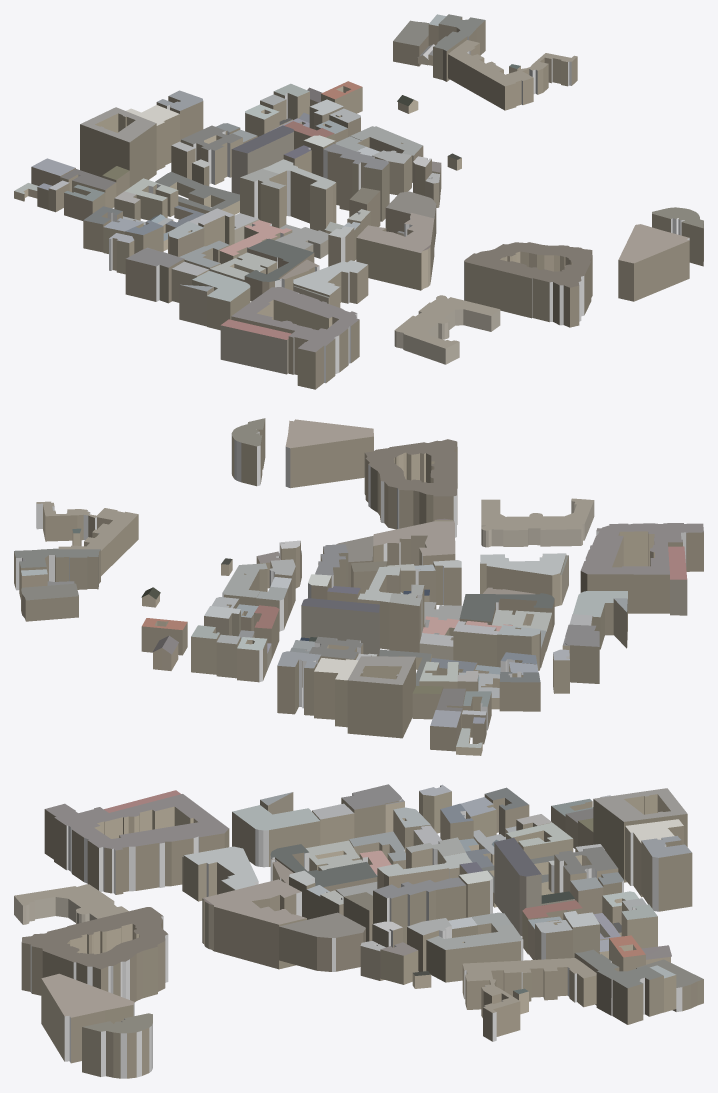
3 views of the same model, one above another, from view 1: azimuth 30°, elevation 25°; view 2: azimuth 150°, elevation 25°; view 3: azimuth 270°, elevation 25° (orthographic). The views are drawn at different scales.
Parts seen in each view (by area): view 1: tuile; view 2: tuile; view 3: tuile.
Boxes of the visible parts, x1,y1,x2,y2 form: tuile: (14, 14, 703, 389); tuile: (14, 418, 703, 755); tuile: (14, 784, 703, 1078).
Bounding box in the file's own units: 288 × 49.92 × 292.
